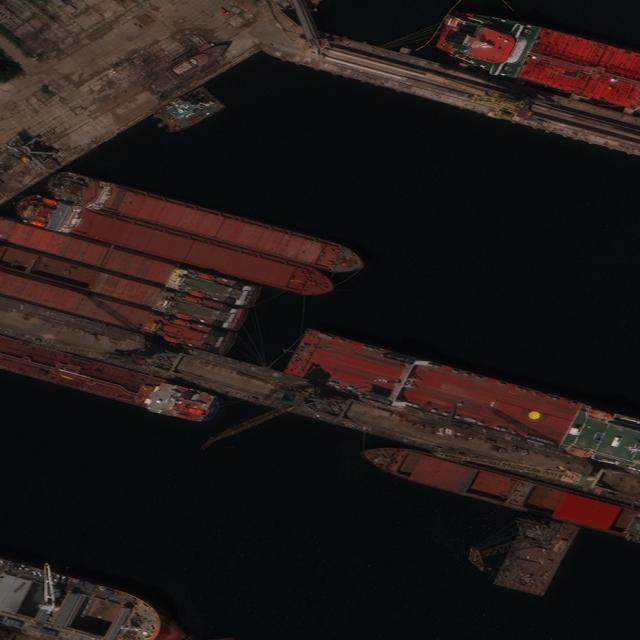Cargo: (1, 335, 222, 426), (1, 559, 162, 639)
Container Ship: (283, 323, 640, 471), (41, 168, 372, 282), (12, 195, 341, 303), (356, 446, 639, 544), (1, 215, 256, 309), (438, 8, 640, 115), (1, 245, 248, 330), (1, 273, 237, 357)
Other Ship: (162, 39, 230, 83)
